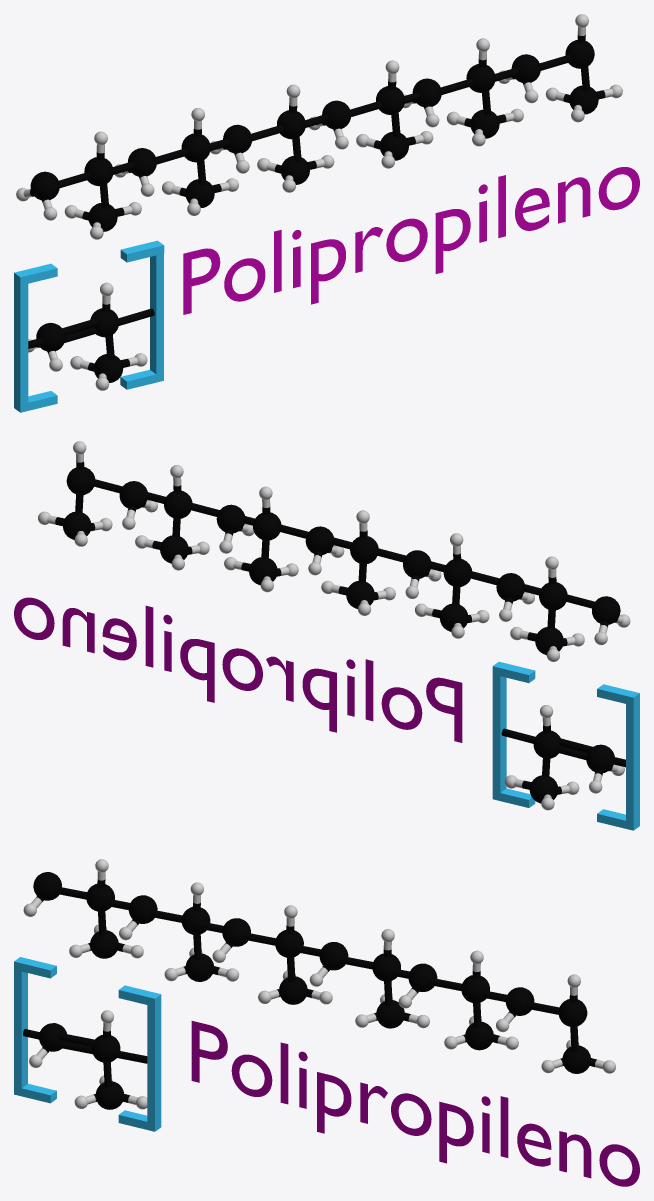
Rendered from polipropileno.obj.
The picture shows the model from 3 angles, top to bottom: view 1: azimuth 30°, elevation 25°; view 2: azimuth 150°, elevation 25°; view 3: azimuth 330°, elevation 25°; orthographic projection.
Visible parts, largest first — view 1: Text.004_Text.076, Cube.009_Cube.016, Cube.010_Cube.019, Shape_IndexedFaceSet.1548_Shape_IndexedFaceSet.997, Shape_IndexedFaceSet.1545_Shape_IndexedFaceSet.995, Shape_IndexedFaceSet.1668_Shape_IndexedFaceSet.1731, Shape_IndexedFaceSet.1519_Shape_IndexedFaceSet.967, Shape_IndexedFaceSet.1642_Shape_IndexedFaceSet.7104, Shape_IndexedFaceSet.1570_Shape_IndexedFaceSet.1019, Shape_IndexedFaceSet.1572_Shape_IndexedFaceSet.1021, Shape_IndexedFaceSet.1620_Shape_IndexedFaceSet.7082, Shape_IndexedFaceSet.1644_Shape_IndexedFaceSet.7106 (+12 smaller); view 2: Text.004_Text.076, Cube.010_Cube.019, Cube.009_Cube.016, Shape_IndexedFaceSet.1548_Shape_IndexedFaceSet.997, Shape_IndexedFaceSet.1618_Shape_IndexedFaceSet.7080, Shape_IndexedFaceSet.1545_Shape_IndexedFaceSet.995, Shape_IndexedFaceSet.1642_Shape_IndexedFaceSet.7104, Shape_IndexedFaceSet.1594_Shape_IndexedFaceSet.7056, Shape_IndexedFaceSet.1666_Shape_IndexedFaceSet.1729, Shape_IndexedFaceSet.1570_Shape_IndexedFaceSet.1019, Shape_IndexedFaceSet.1644_Shape_IndexedFaceSet.7106, Shape_IndexedFaceSet.1596_Shape_IndexedFaceSet.7058 (+12 smaller); view 3: Text.004_Text.076, Cube.010_Cube.019, Cube.009_Cube.016, Shape_IndexedFaceSet.1666_Shape_IndexedFaceSet.1729, Shape_IndexedFaceSet.1644_Shape_IndexedFaceSet.7106, Shape_IndexedFaceSet.1668_Shape_IndexedFaceSet.1731, Shape_IndexedFaceSet.1620_Shape_IndexedFaceSet.7082, Shape_IndexedFaceSet.1572_Shape_IndexedFaceSet.1021, Shape_IndexedFaceSet.1596_Shape_IndexedFaceSet.7058, Shape_IndexedFaceSet.1548_Shape_IndexedFaceSet.997, Shape_IndexedFaceSet.1533_Shape_IndexedFaceSet.977, Shape_IndexedFaceSet.1678_Shape_IndexedFaceSet.1741 (+12 smaller).
Part boxes in pixels (x1,y1,x2,y2): Text.004_Text.076: (183,167,639,314); Cube.009_Cube.016: (14,263,57,412); Cube.010_Cube.019: (120,240,164,389); Shape_IndexedFaceSet.1548_Shape_IndexedFaceSet.997: (30,171,59,200); Shape_IndexedFaceSet.1545_Shape_IndexedFaceSet.995: (84,157,113,186); Shape_IndexedFaceSet.1668_Shape_IndexedFaceSet.1731: (511,54,540,82); Shape_IndexedFaceSet.1519_Shape_IndexedFaceSet.967: (36,323,65,351); Shape_IndexedFaceSet.1642_Shape_IndexedFaceSet.7104: (466,64,495,92); Shape_IndexedFaceSet.1570_Shape_IndexedFaceSet.1019: (181,133,210,162); Shape_IndexedFaceSet.1572_Shape_IndexedFaceSet.1021: (127,148,156,176); Shape_IndexedFaceSet.1620_Shape_IndexedFaceSet.7082: (322,100,351,129); Shape_IndexedFaceSet.1644_Shape_IndexedFaceSet.7106: (412,78,441,106); Text.004_Text.076: (14,597,462,742); Cube.010_Cube.019: (492,661,535,807); Cube.009_Cube.016: (597,684,639,830); Shape_IndexedFaceSet.1548_Shape_IndexedFaceSet.997: (592,596,620,624); Shape_IndexedFaceSet.1618_Shape_IndexedFaceSet.7080: (253,512,281,540); Shape_IndexedFaceSet.1545_Shape_IndexedFaceSet.995: (539,582,567,610); Shape_IndexedFaceSet.1642_Shape_IndexedFaceSet.7104: (164,491,192,518); Shape_IndexedFaceSet.1594_Shape_IndexedFaceSet.7056: (350,536,378,564); Shape_IndexedFaceSet.1666_Shape_IndexedFaceSet.1729: (66,467,95,495); Shape_IndexedFaceSet.1570_Shape_IndexedFaceSet.1019: (443,559,471,587); Shape_IndexedFaceSet.1644_Shape_IndexedFaceSet.7106: (216,504,244,533); Shape_IndexedFaceSet.1596_Shape_IndexedFaceSet.7058: (403,550,430,578); Text.004_Text.076: (191,1021,639,1186); Cube.010_Cube.019: (118,985,161,1131); Cube.009_Cube.016: (14,957,56,1103); Shape_IndexedFaceSet.1666_Shape_IndexedFaceSet.1729: (558,999,587,1026); Shape_IndexedFaceSet.1644_Shape_IndexedFaceSet.7106: (408,963,437,991); Shape_IndexedFaceSet.1668_Shape_IndexedFaceSet.1731: (505,987,534,1015); Shape_IndexedFaceSet.1620_Shape_IndexedFaceSet.7082: (319,942,348,970); Shape_IndexedFaceSet.1572_Shape_IndexedFaceSet.1021: (128,895,157,923); Shape_IndexedFaceSet.1596_Shape_IndexedFaceSet.7058: (222,918,250,946); Shape_IndexedFaceSet.1548_Shape_IndexedFaceSet.997: (33,872,61,900); Shape_IndexedFaceSet.1533_Shape_IndexedFaceSet.977: (96,1081,123,1109); Shape_IndexedFaceSet.1678_Shape_IndexedFaceSet.1741: (562,1045,590,1073).
Size of the model in its own units: 159 by 62.81 by 14.08.
